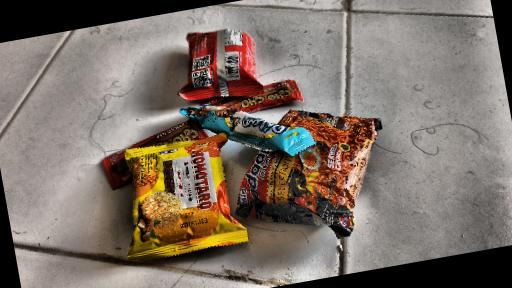chocho: (95, 124, 215, 183), (203, 78, 315, 125)
dilan: (174, 78, 321, 177)
mie sedap: (232, 87, 390, 252)
momotaro: (109, 129, 251, 266), (170, 20, 269, 110)
